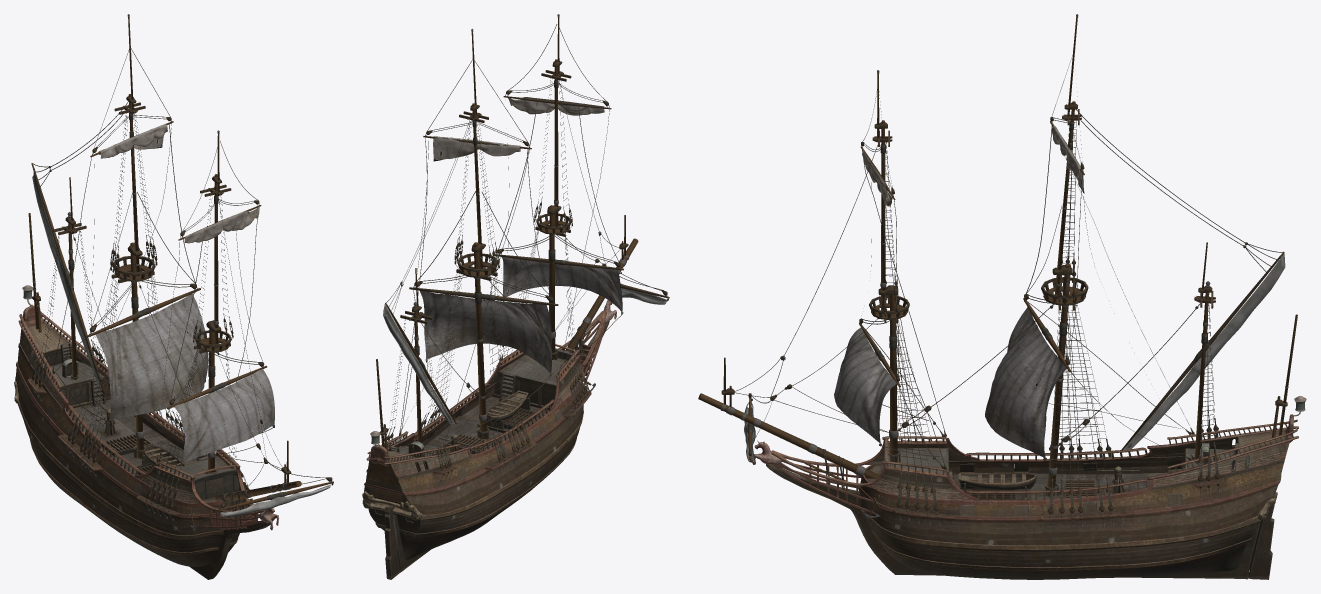
File: ship-sail.glb
The picture shows the model from 3 angles, left to right: view 1: azimuth 30°, elevation 25°; view 2: azimuth 150°, elevation 25°; view 3: azimuth 270°, elevation 25°; orthographic projection. The views are drawn at different scales.
Parts seen in each view (by area): view 1: dutch_ship_medium_hull, dutch_ship_medium_rigging, dutch_ship_medium_sails; view 2: dutch_ship_medium_hull, dutch_ship_medium_rigging, dutch_ship_medium_sails; view 3: dutch_ship_medium_hull, dutch_ship_medium_rigging, dutch_ship_medium_sails.
Part boxes in pixels (left/top/right/bottom): dutch_ship_medium_hull: left=14, top=285, right=278, bottom=579; dutch_ship_medium_rigging: left=28, top=14, right=333, bottom=531; dutch_ship_medium_sails: left=95, top=124, right=274, bottom=462; dutch_ship_medium_hull: left=362, top=300, right=616, bottom=579; dutch_ship_medium_rigging: left=376, top=14, right=669, bottom=482; dutch_ship_medium_sails: left=420, top=97, right=622, bottom=372; dutch_ship_medium_hull: left=752, top=396, right=1306, bottom=579; dutch_ship_medium_rigging: left=698, top=14, right=1297, bottom=529; dutch_ship_medium_sails: left=834, top=126, right=1084, bottom=457.
Bounding box in the file's own units: 6.81 × 24.66 × 24.07.
3 materials, 3 textured.
